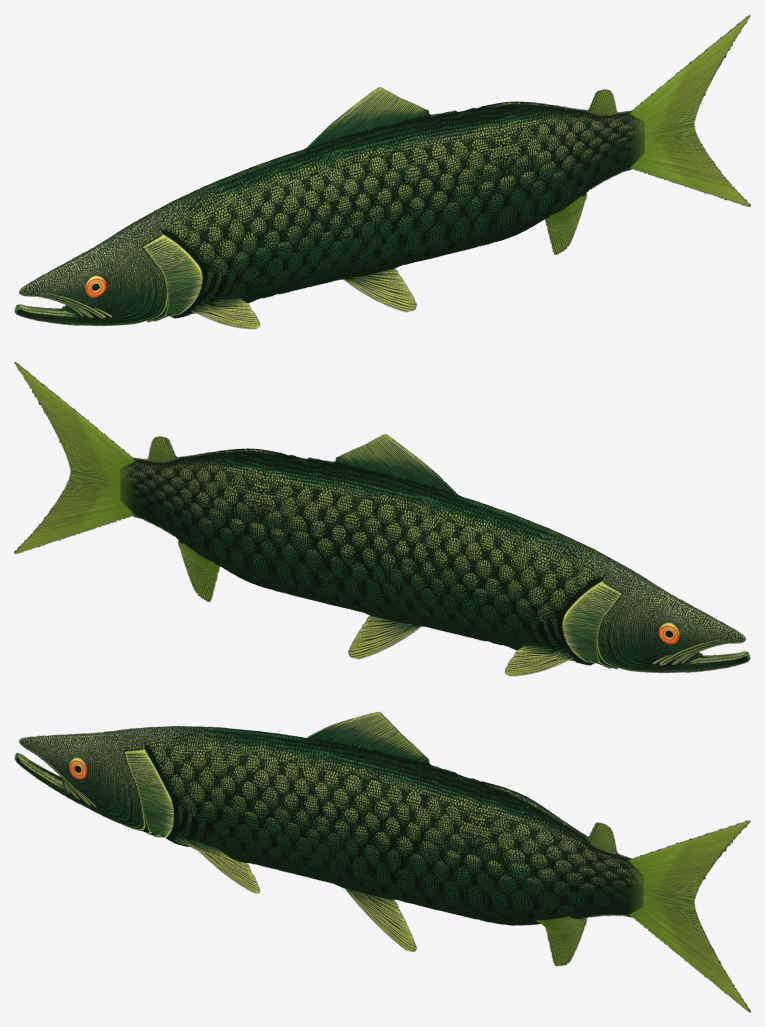
File: salmon.glb
The picture shows the model from 3 angles, top to bottom: view 1: azimuth 30°, elevation 25°; view 2: azimuth 150°, elevation 25°; view 3: azimuth 330°, elevation 25°; orthographic projection.
Parts seen in each view (by area): view 1: salmon; view 2: salmon; view 3: salmon.
Boxes of the visible parts, x1=… form: salmon: x1=14, y1=15, x2=750, y2=329; salmon: x1=14, y1=362, x2=750, y2=676; salmon: x1=14, y1=712, x2=750, y2=1012.
Size of the model in its own units: 3.29 by 1.01 by 0.2663.
Materials: 1 (1 with a texture image).
